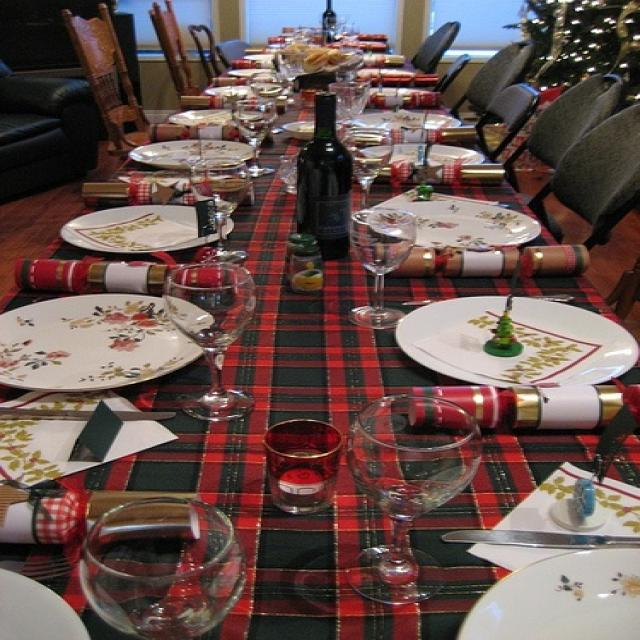bottle: (295, 86, 355, 252), (310, 0, 340, 44)
chair: (522, 101, 638, 245), (58, 10, 162, 151), (507, 70, 623, 176), (452, 36, 532, 115), (143, 5, 200, 103), (468, 84, 530, 152), (408, 14, 452, 64), (427, 51, 468, 95)
diningtable: (4, 25, 638, 635)
